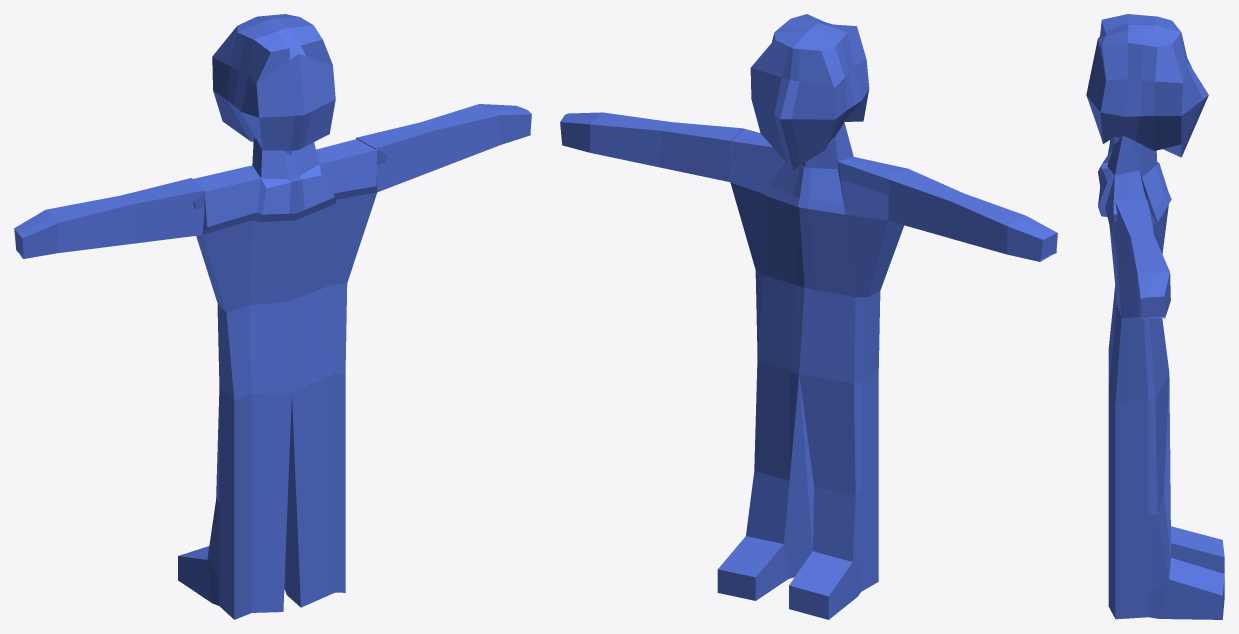
File: low poly charecter.fbx
3 renders of one model, left to right at view 1: azimuth 30°, elevation 25°; view 2: azimuth 150°, elevation 25°; view 3: azimuth 270°, elevation 25°, orthographic. The views are drawn at different scales.
Visible parts, largest first — view 1: Cube; view 2: Cube; view 3: Cube.
Part boxes in pixels (x1,y1,x2,y2): Cube: (14,14,531,619); Cube: (560,14,1057,619); Cube: (1086,14,1224,619).
Bounding box in the file's own units: 1461 × 1574 × 347.
